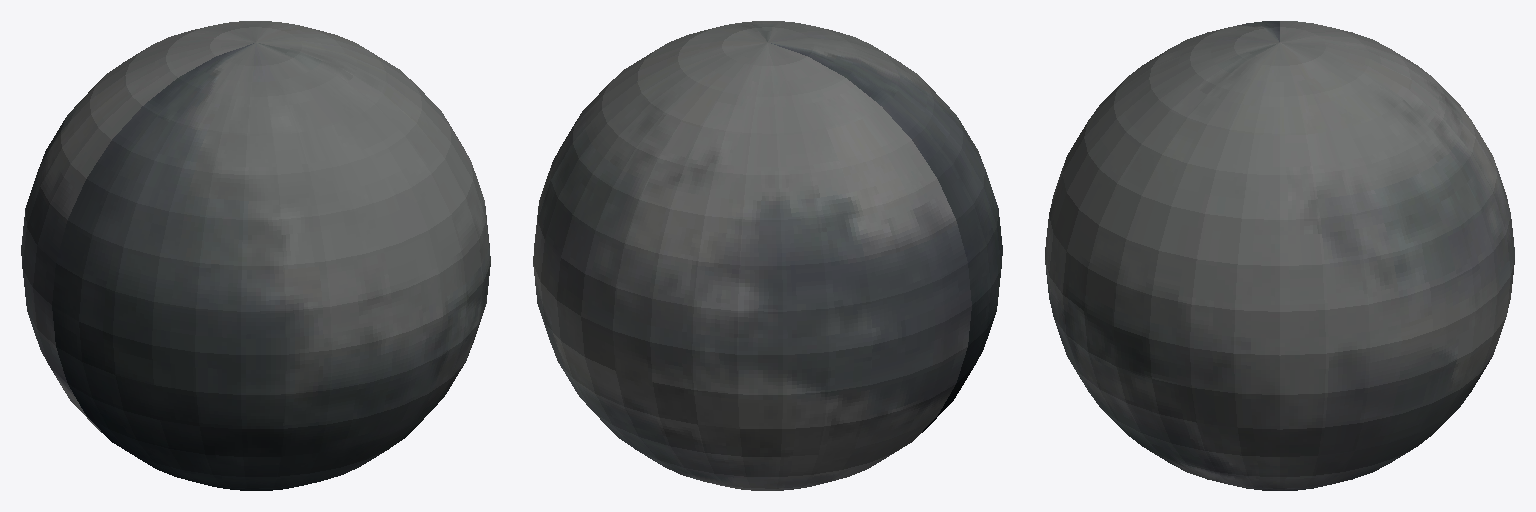
3 views of the same model, side by side, from view 1: azimuth 30°, elevation 25°; view 2: azimuth 150°, elevation 25°; view 3: azimuth 270°, elevation 25° (orthographic).
Visible parts, largest first — view 1: 球; view 2: 球; view 3: 球.
Part boxes in pixels (x1,y1,x2,y2): 球: (21,21,490,490); 球: (533,21,1002,490); 球: (1045,21,1514,490).
Size of the model in its own units: 2 by 2 by 2.
Materials: 1 (1 with a texture image).